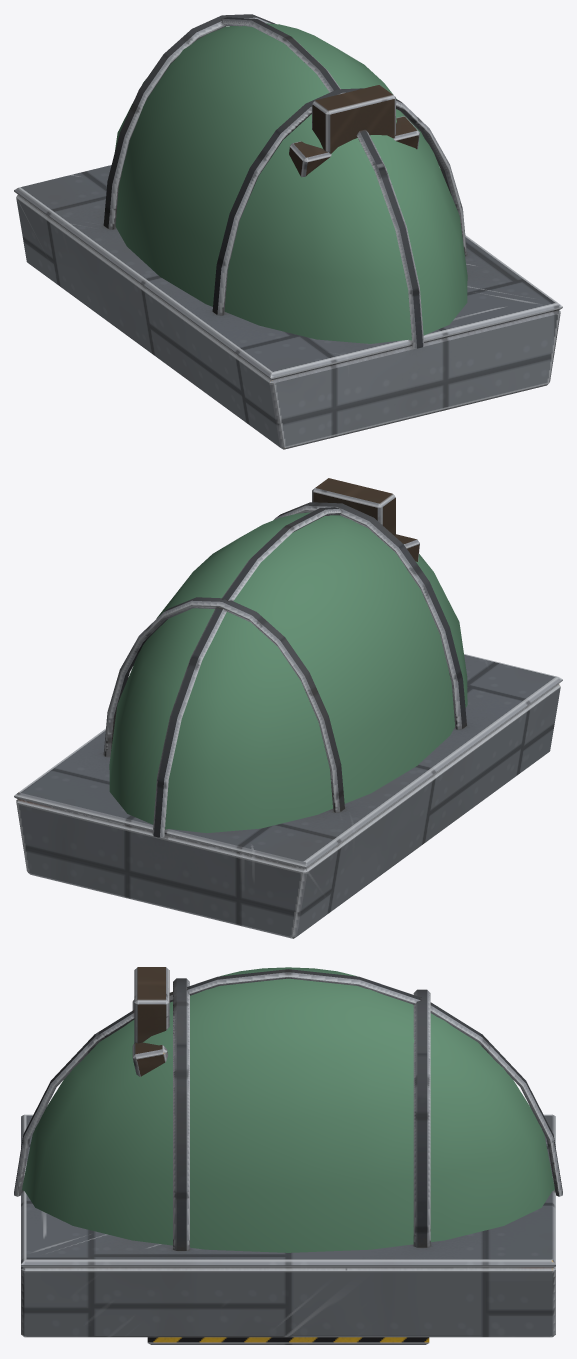
Rendered from cabina_cerrada_t1.fbx.
3 renders of one model, top to bottom at view 1: azimuth 30°, elevation 25°; view 2: azimuth 150°, elevation 25°; view 3: azimuth 270°, elevation 25°, orthographic. The views are drawn at different scales.
Visible parts, largest first — view 1: cabina_cerrada_t1_cristal, cabina_cerrada_t1; view 2: cabina_cerrada_t1_cristal, cabina_cerrada_t1; view 3: cabina_cerrada_t1_cristal, cabina_cerrada_t1.
Boxes of the visible parts, bbox=[...] form: cabina_cerrada_t1_cristal: bbox=[115, 23, 467, 343]; cabina_cerrada_t1: bbox=[14, 14, 562, 449]; cabina_cerrada_t1_cristal: bbox=[109, 512, 467, 833]; cabina_cerrada_t1: bbox=[14, 478, 562, 938]; cabina_cerrada_t1_cristal: bbox=[22, 967, 554, 1252]; cabina_cerrada_t1: bbox=[14, 967, 562, 1344].
Size of the model in its own units: 2.5 by 2.54 by 3.9.
